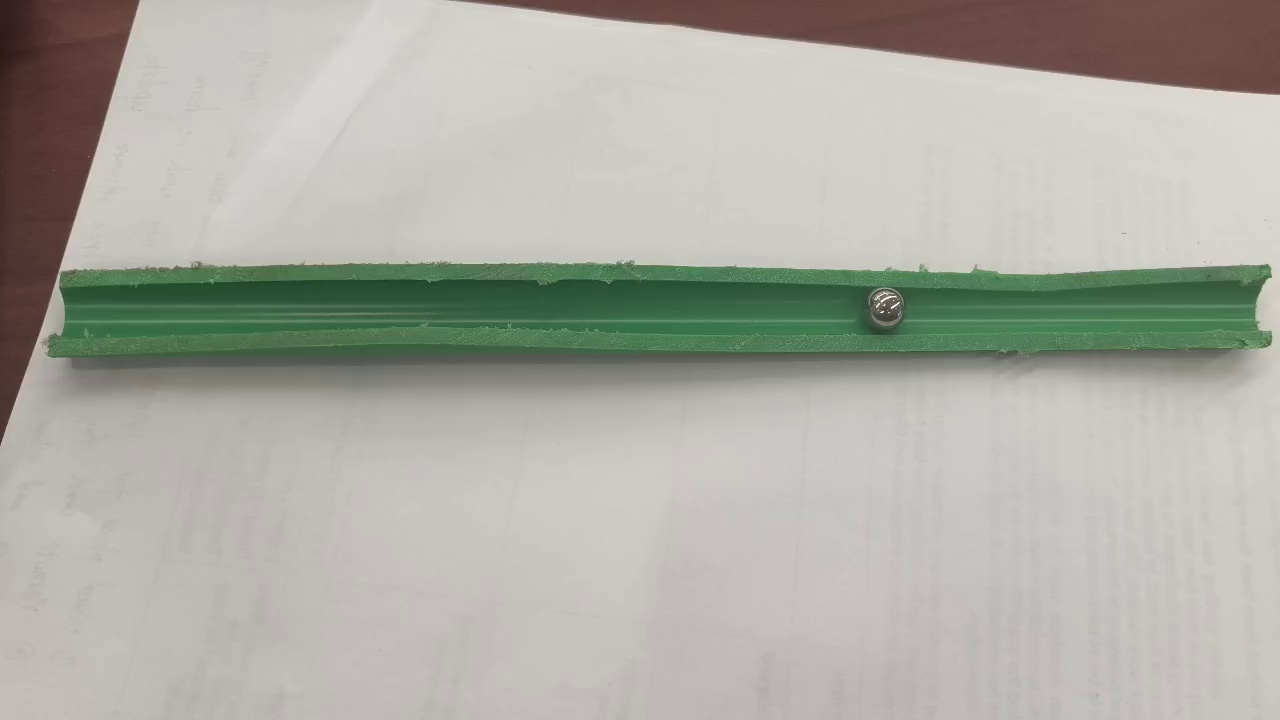ball: (868, 288, 904, 326)
